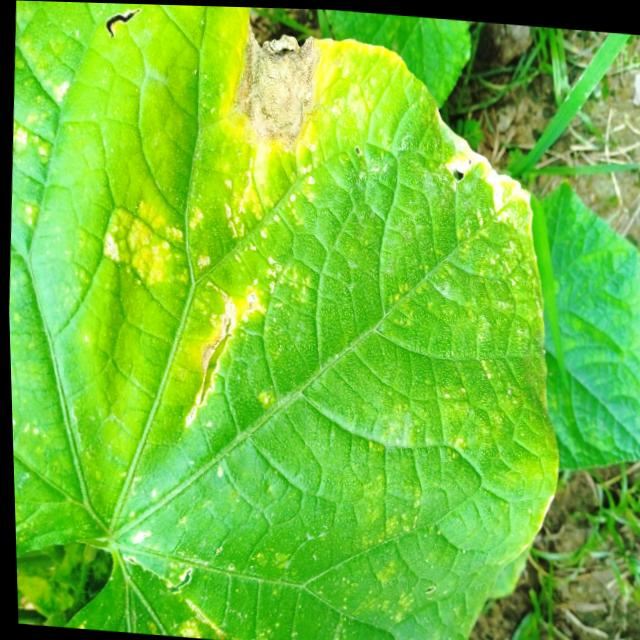Gummy-Stem-Blight: (220, 24, 338, 157)
